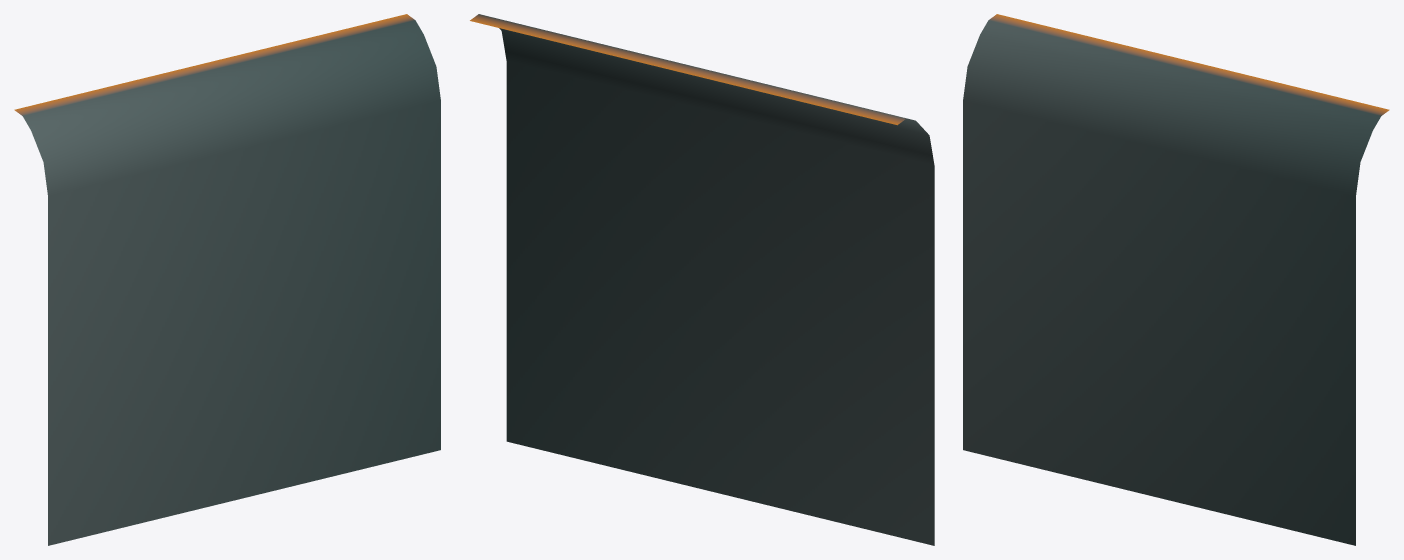
The model's file is Base_WallRoadSide.fbx.
3 views of the same model, side by side, from view 1: azimuth 30°, elevation 25°; view 2: azimuth 150°, elevation 25°; view 3: azimuth 330°, elevation 25° (orthographic). The views are drawn at different scales.
Parts seen in each view (by area): view 1: Base_WallRoadSide; view 2: Base_WallRoadSide; view 3: Base_WallRoadSide.
Boxes of the visible parts, left/top/right/bottom form: Base_WallRoadSide: left=14, top=14, right=440, bottom=545; Base_WallRoadSide: left=470, top=14, right=934, bottom=545; Base_WallRoadSide: left=963, top=14, right=1389, bottom=545.
Bounding box in the file's own units: 2000 × 2000 × 300.
